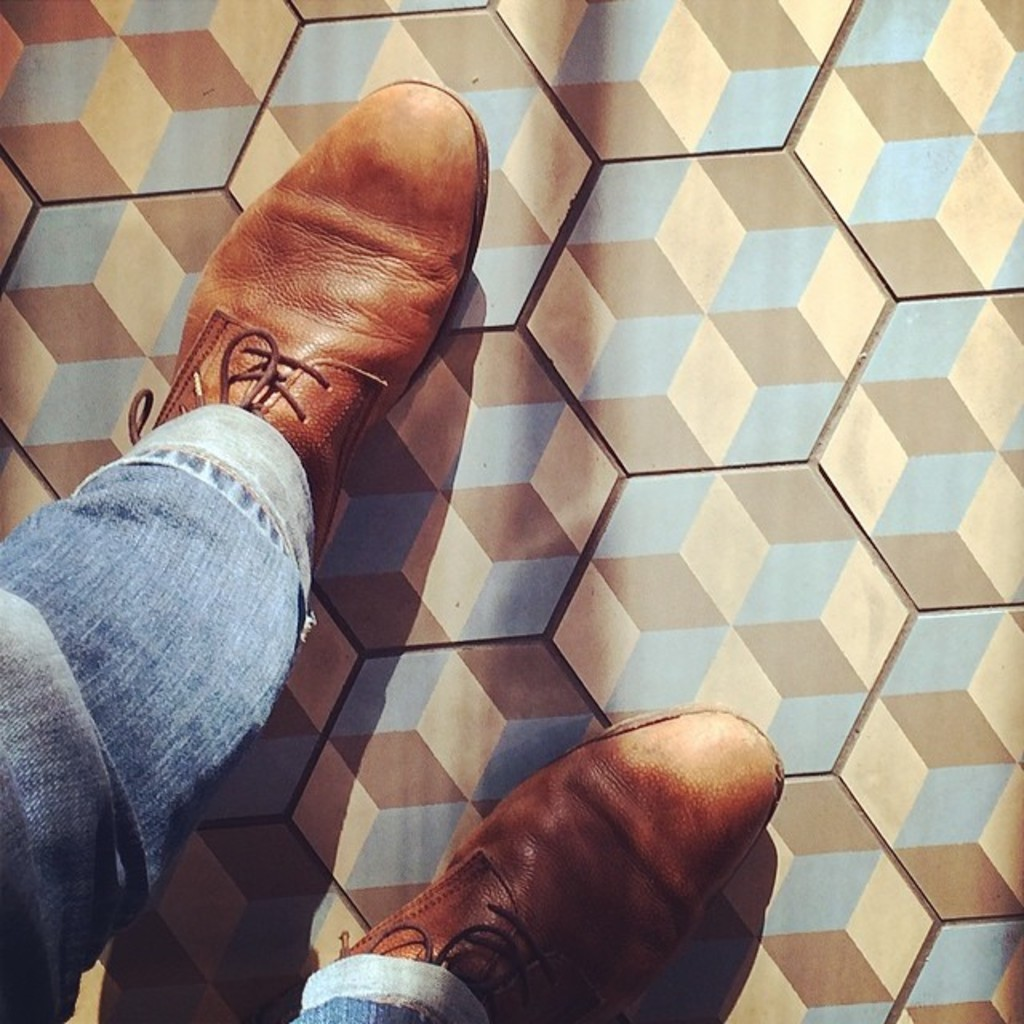Footwear: (133, 64, 486, 594), (333, 698, 790, 1022)
